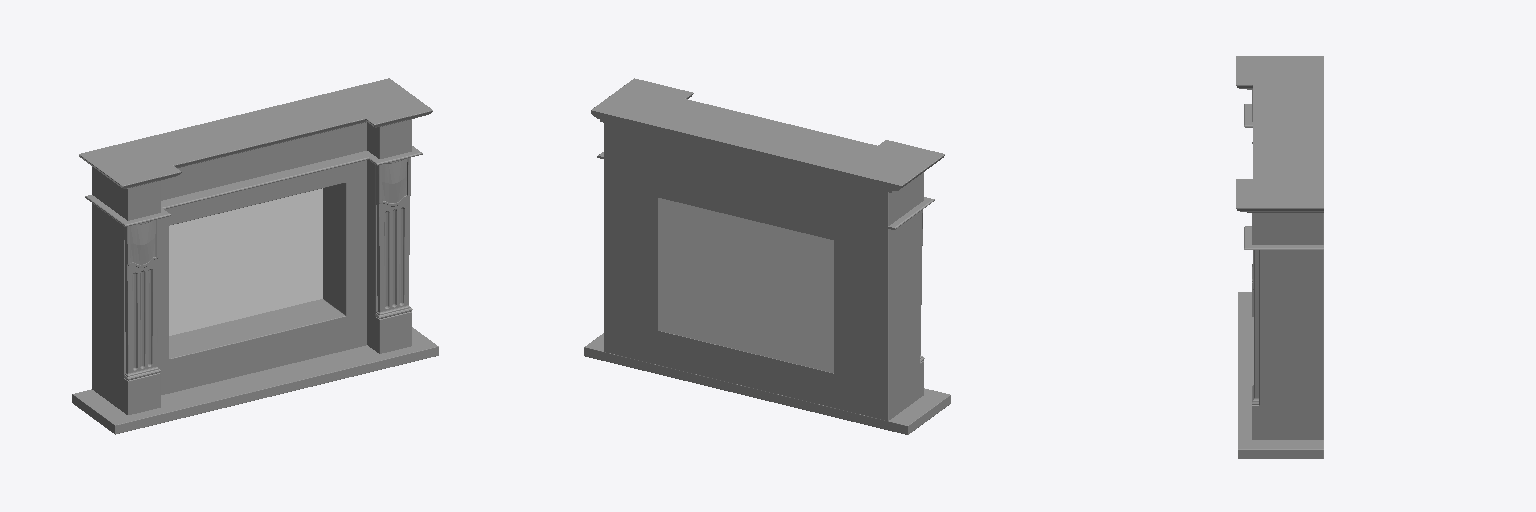
3 renders of one model, left to right at view 1: azimuth 30°, elevation 25°; view 2: azimuth 150°, elevation 25°; view 3: azimuth 270°, elevation 25°, orthographic.
Bounding box in the file's own units: 1.45 × 1.06 × 0.34.
Materials: 2 (1 with a texture image).